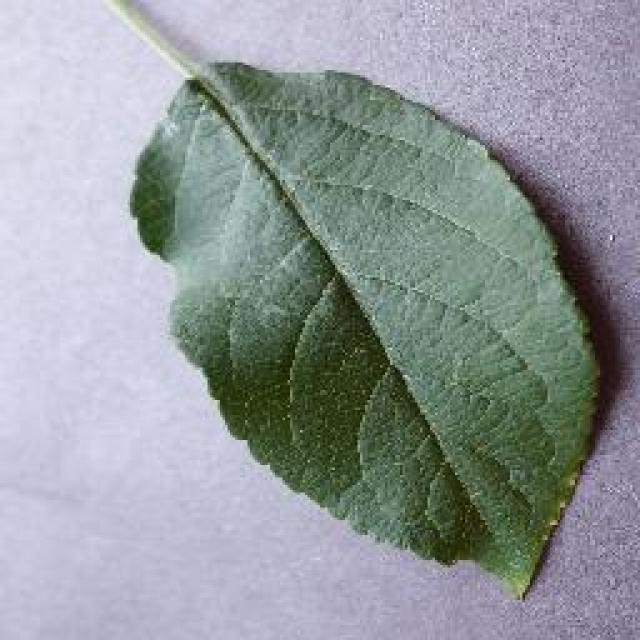apple healthy: (92, 0, 608, 600)
